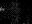person: (1, 7, 6, 12)
